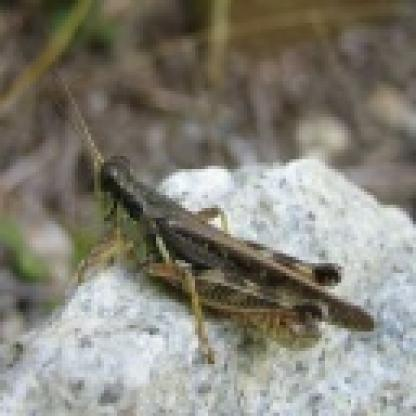grasshopper: (92, 156, 369, 350)
